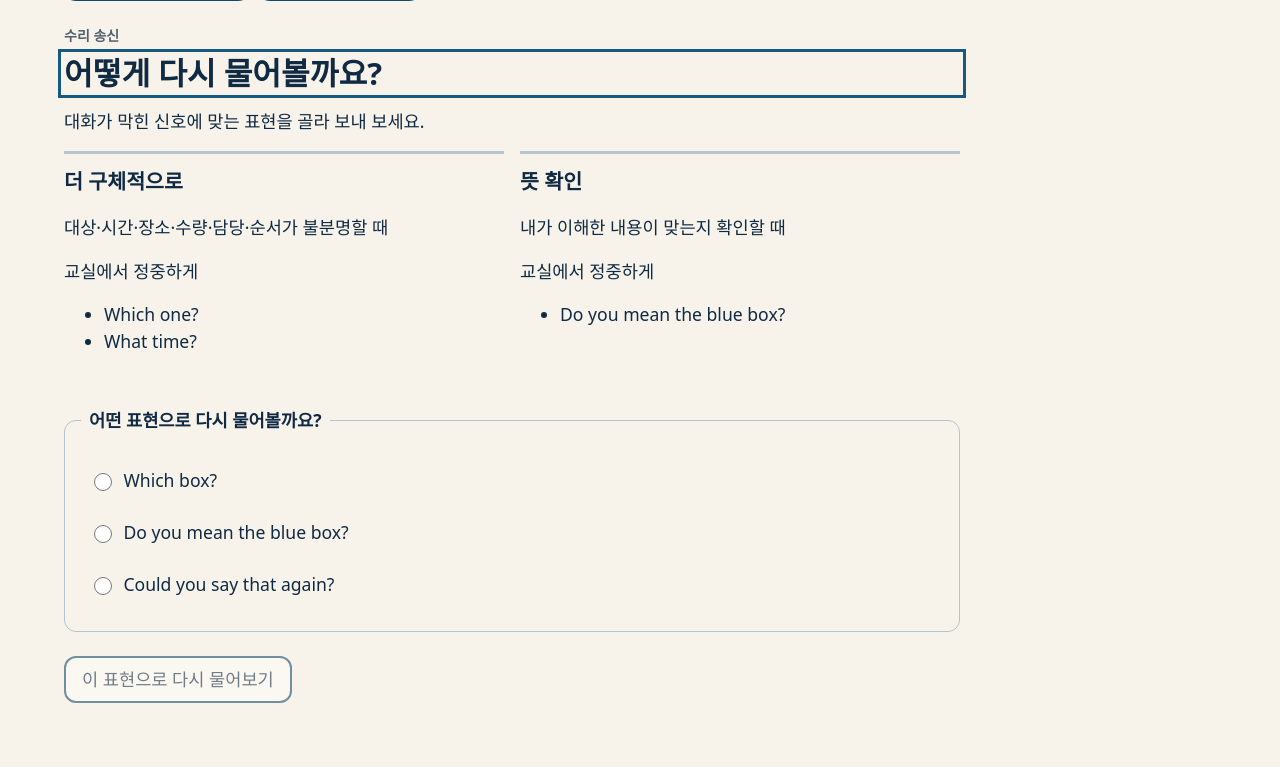
Test: RepairTransmission › keeps a retry on repair and gives a Korean hint without exposing an accepted expression
(page scrolled)
What coordinates should you click on to do the following:
click the radio button labelled "Could you say that again?"
I would click on:
 (103, 586)
Its box is [94,577,112,595].
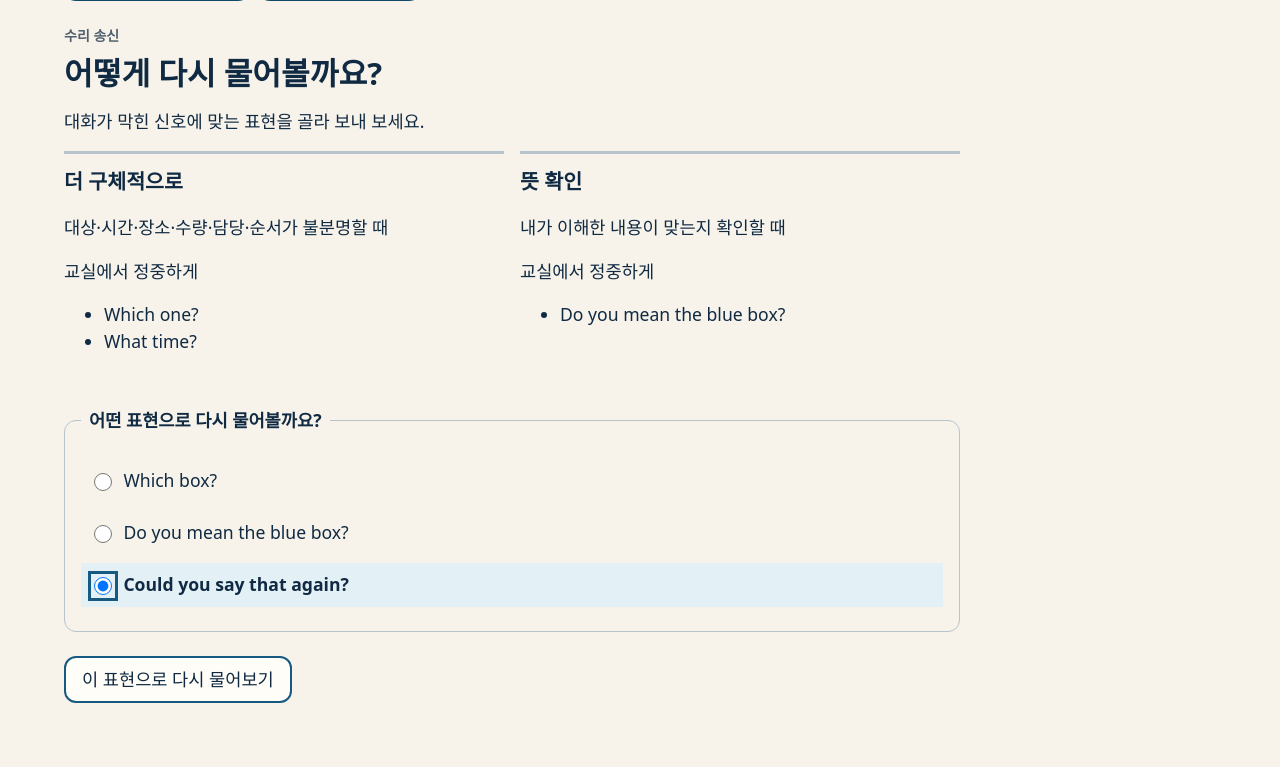
What coordinates should you click on to do the following:
click the button "이 표현으로 다시 물어보기"
I would click on:
 (178, 679)
Its box is [64,656,292,703].
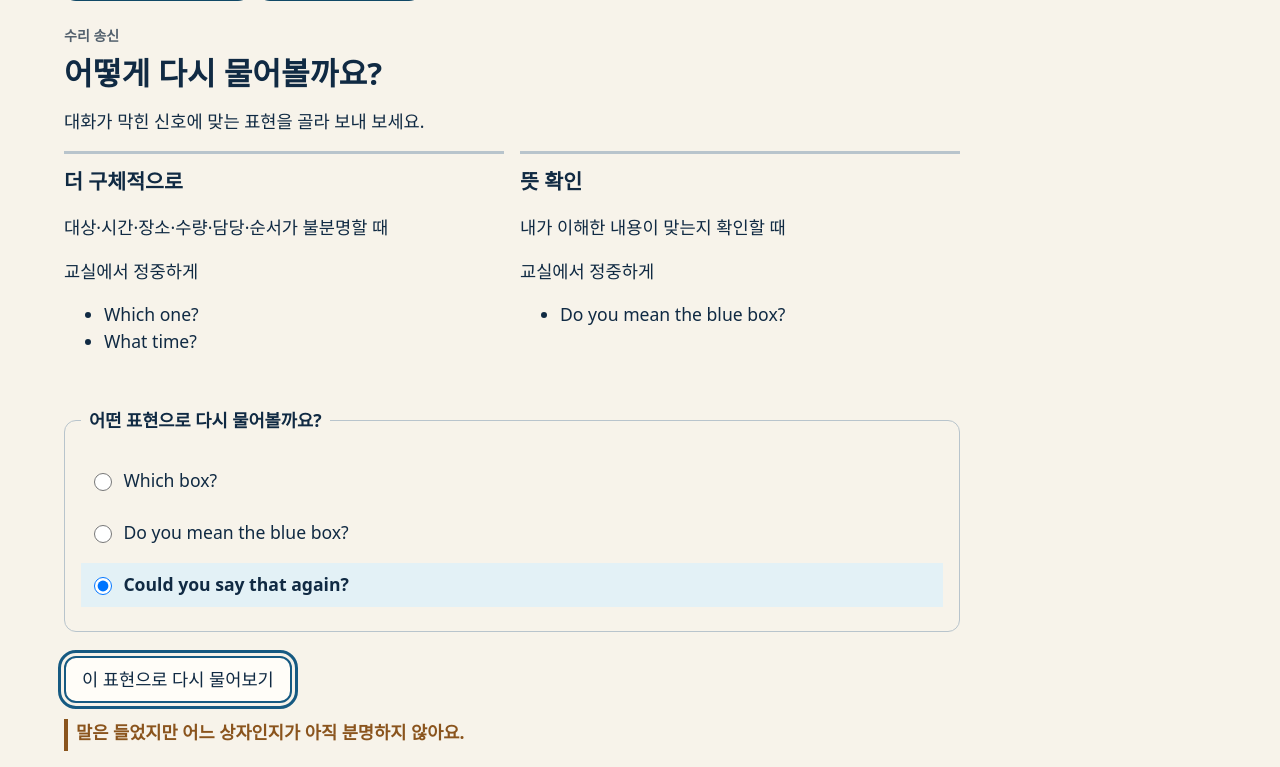
Expected: the heading "어떻게 다시 물어볼까요?" is shown, [64,52,382,94]
Result: the radio button labelled "Could you say that again?" is checked at [94,577,112,595]
Result: the message reads "말은 들었지만 어느 상자인지가 아직 분명하지 않아요." at [76,720,465,744]
